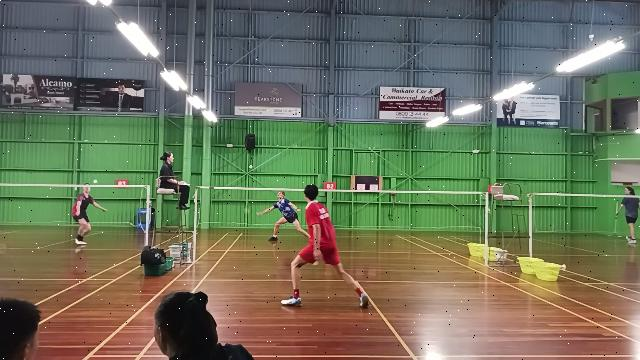Shuttlecock: (246, 162, 256, 172)
